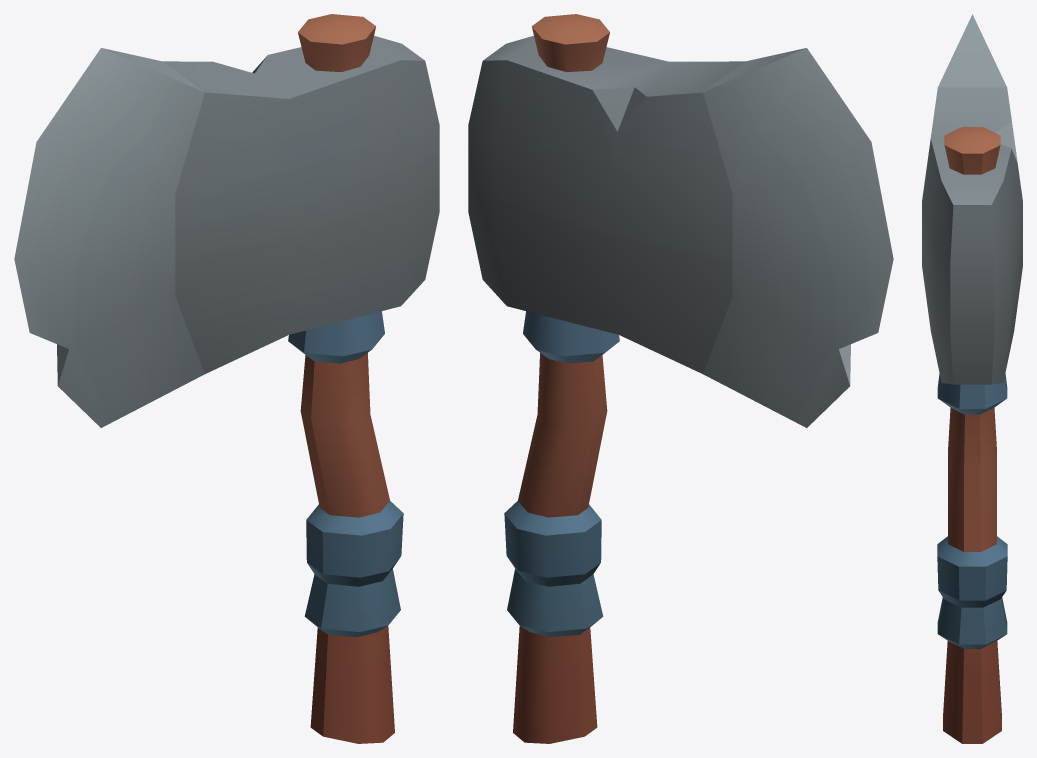
The model's file is axe_1handed.glb.
The picture shows the model from 3 angles, left to right: view 1: azimuth 30°, elevation 25°; view 2: azimuth 150°, elevation 25°; view 3: azimuth 270°, elevation 25°; orthographic projection. The views are drawn at different scales.
Visible parts, largest first — view 1: axe_1handed; view 2: axe_1handed; view 3: axe_1handed.
Boxes of the visible parts, x1=… form: axe_1handed: x1=14, y1=14, x2=439, y2=743; axe_1handed: x1=468, y1=14, x2=893, y2=743; axe_1handed: x1=922, y1=14, x2=1022, y2=743.
Bounding box in the file's own units: 0.7144 × 1.24 × 0.1849.
1 material, 1 textured.
